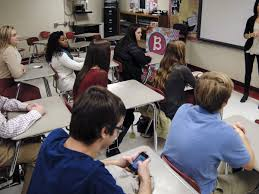Mobile-phone: (127, 151, 150, 174)
